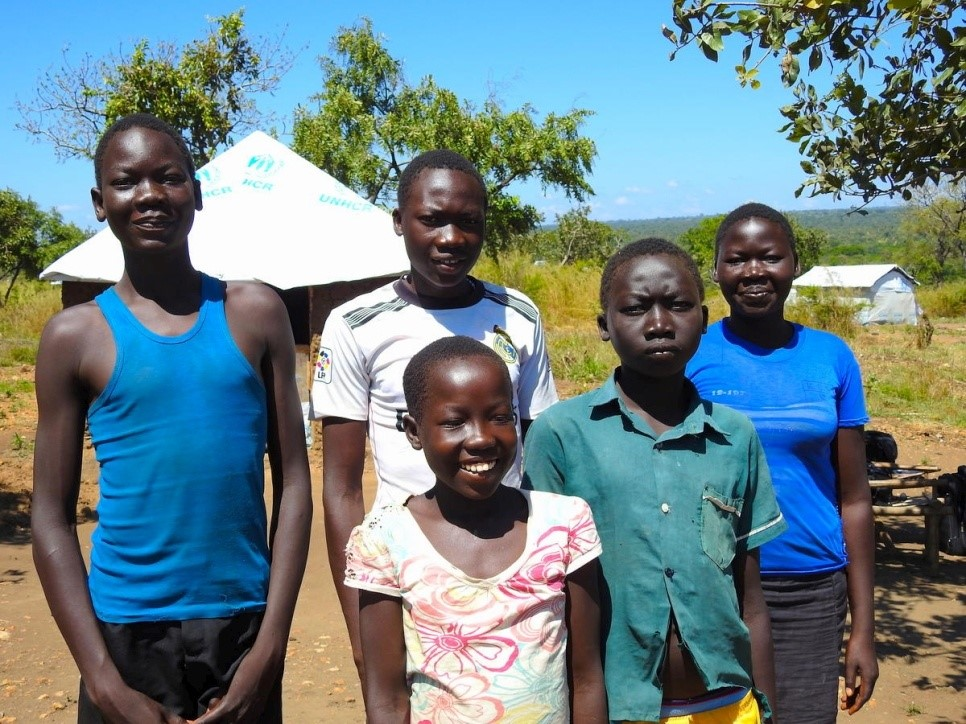face_no_mask: (401, 336, 523, 501), (89, 115, 206, 258), (595, 240, 708, 373), (388, 151, 488, 285), (715, 201, 798, 318)
